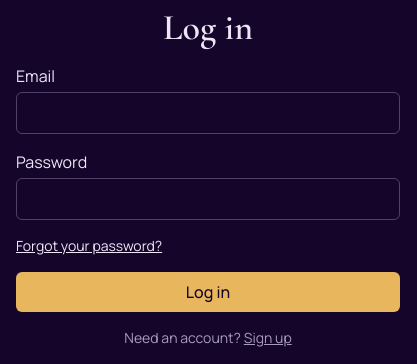
it: the submit button is disabled while the request is in flight
Step 1. Type "nightowl@example.com" into the field labelled "Email" → (208, 113), box [16,92,400,134]
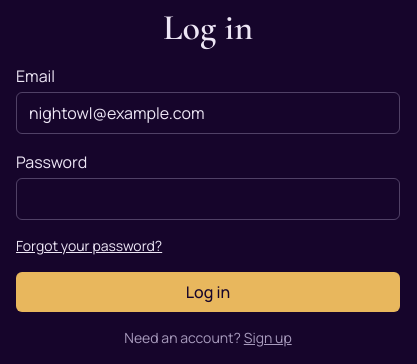
Step 2. Type "Sup3r$ecret1" into the password field labelled "Password" → (208, 199), box [16,178,400,220]
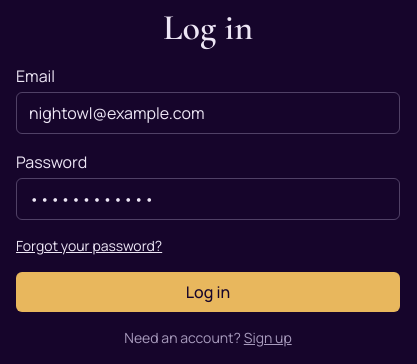
Step 3. Click the button "Log in" → click(208, 292), box [16,272,400,312]
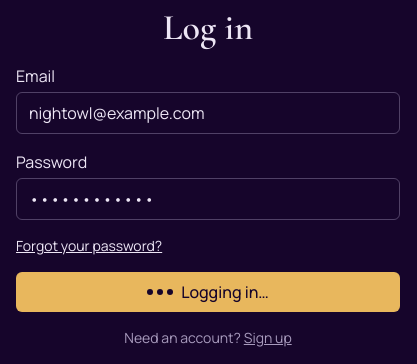
Now the button "Logging in…" is disabled, box [16,272,400,312]
